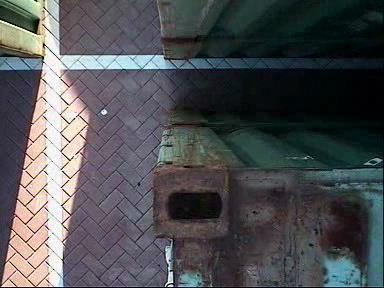groundmarker_2: (177, 82, 302, 287)
